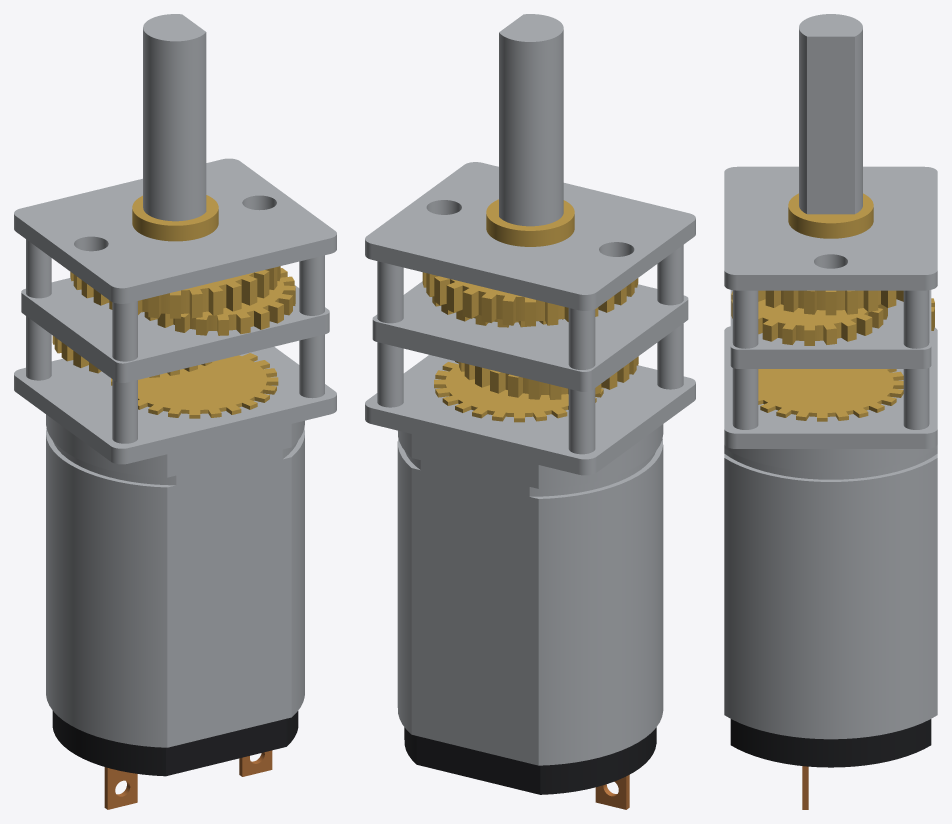
Rendered from motor-l.glb.
3 views of the same model, side by side, from view 1: azimuth 30°, elevation 25°; view 2: azimuth 150°, elevation 25°; view 3: azimuth 270°, elevation 25° (orthographic). The views are drawn at different scales.
Parts seen in each view (by area): view 1: motor-l; view 2: motor-l; view 3: motor-l.
Part boxes in pixels (x1,y1,x2,y2): motor-l: (14,14,336,809); motor-l: (365,14,695,809); motor-l: (724,14,937,809).
Size of the model in its own units: 12 by 38.4 by 10.
